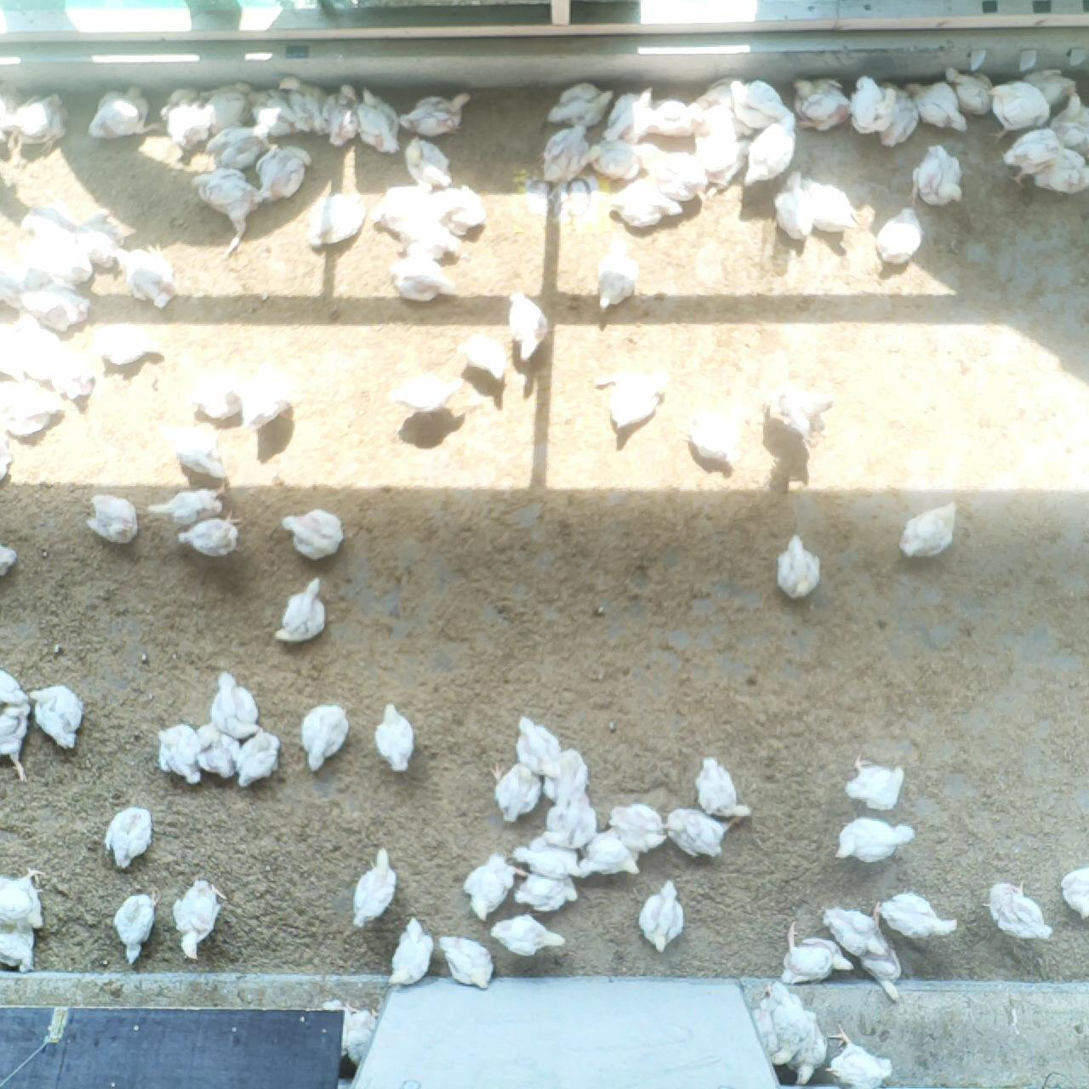chicken: (188, 165, 263, 263), (592, 359, 670, 441), (775, 914, 856, 989), (758, 975, 819, 1070), (170, 874, 233, 962), (980, 877, 1057, 948), (457, 849, 529, 924), (798, 173, 881, 238), (107, 239, 179, 312), (870, 885, 963, 941), (342, 842, 400, 931), (670, 401, 739, 475), (659, 802, 747, 860), (757, 371, 833, 437), (268, 573, 331, 651), (110, 880, 165, 968), (827, 1018, 895, 1089), (838, 747, 911, 813), (905, 137, 969, 212), (600, 178, 687, 233), (981, 75, 1051, 143), (740, 108, 798, 190), (833, 813, 921, 867), (23, 678, 88, 751), (0, 91, 76, 153), (386, 247, 459, 309), (302, 186, 369, 253), (690, 753, 754, 823), (84, 86, 158, 146), (821, 898, 889, 963), (573, 817, 642, 881), (431, 930, 500, 994), (295, 699, 352, 776), (590, 231, 641, 317), (206, 666, 263, 742), (379, 371, 469, 419), (507, 711, 565, 785), (895, 500, 962, 564), (634, 875, 688, 954), (0, 376, 66, 440), (535, 784, 597, 852), (483, 908, 568, 957), (253, 141, 315, 207), (451, 322, 510, 391), (773, 526, 825, 603), (544, 77, 616, 132), (905, 77, 973, 135), (505, 286, 553, 368), (101, 799, 157, 869), (17, 286, 95, 336), (183, 366, 249, 425), (607, 799, 674, 857), (278, 506, 347, 562), (383, 914, 433, 991), (174, 512, 251, 562), (786, 71, 848, 133), (486, 760, 543, 827), (367, 182, 434, 239), (373, 698, 419, 781), (86, 319, 158, 372), (25, 232, 94, 287), (770, 167, 819, 244), (396, 90, 476, 137), (80, 486, 140, 548), (1002, 126, 1062, 188), (246, 372, 303, 437), (141, 480, 231, 521), (511, 832, 583, 883), (158, 83, 212, 151), (509, 863, 582, 913), (540, 739, 591, 810), (230, 722, 283, 790), (874, 202, 926, 271), (639, 143, 709, 194), (538, 120, 591, 187), (600, 85, 659, 145), (430, 181, 489, 241), (74, 206, 130, 269), (873, 77, 920, 152), (0, 863, 50, 933), (150, 721, 204, 785), (355, 83, 403, 155), (16, 312, 66, 381), (846, 71, 898, 137), (168, 426, 230, 481), (727, 75, 791, 128), (857, 939, 906, 1008), (637, 92, 710, 138), (401, 131, 455, 193), (690, 133, 752, 187), (278, 71, 331, 134), (0, 696, 35, 790), (48, 341, 100, 403), (194, 717, 241, 785), (201, 123, 271, 168), (942, 60, 996, 118), (587, 128, 645, 182), (321, 81, 364, 149), (1032, 145, 1089, 196), (790, 1020, 834, 1086), (1047, 90, 1089, 157), (246, 88, 301, 138), (398, 217, 466, 257), (1020, 65, 1080, 106), (0, 921, 43, 978), (205, 78, 254, 128), (697, 103, 753, 139), (17, 200, 73, 235), (1058, 863, 1089, 921), (693, 75, 745, 109), (0, 320, 27, 379), (0, 663, 30, 708), (0, 265, 26, 312), (0, 539, 19, 582)
